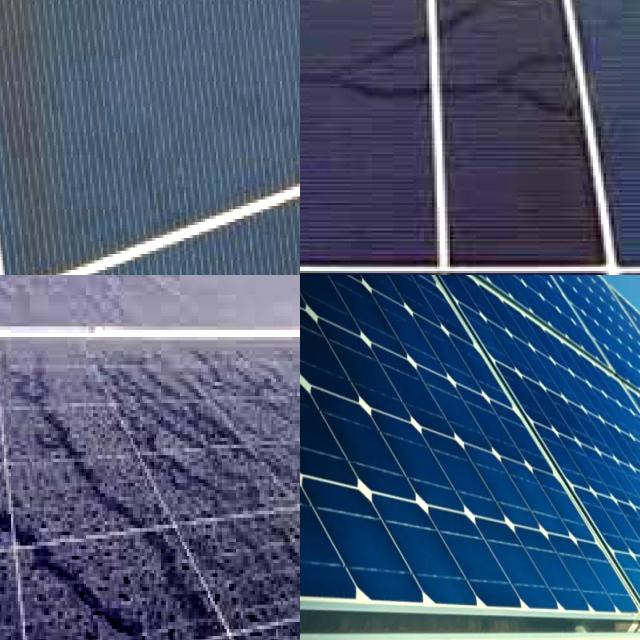crack: (300, 275, 640, 624)
dust: (14, 352, 142, 518), (161, 361, 300, 494), (17, 526, 147, 640), (164, 522, 300, 595), (0, 339, 35, 548), (0, 573, 37, 640)
shadow: (300, 0, 426, 242), (434, 0, 561, 157), (0, 0, 174, 80)
